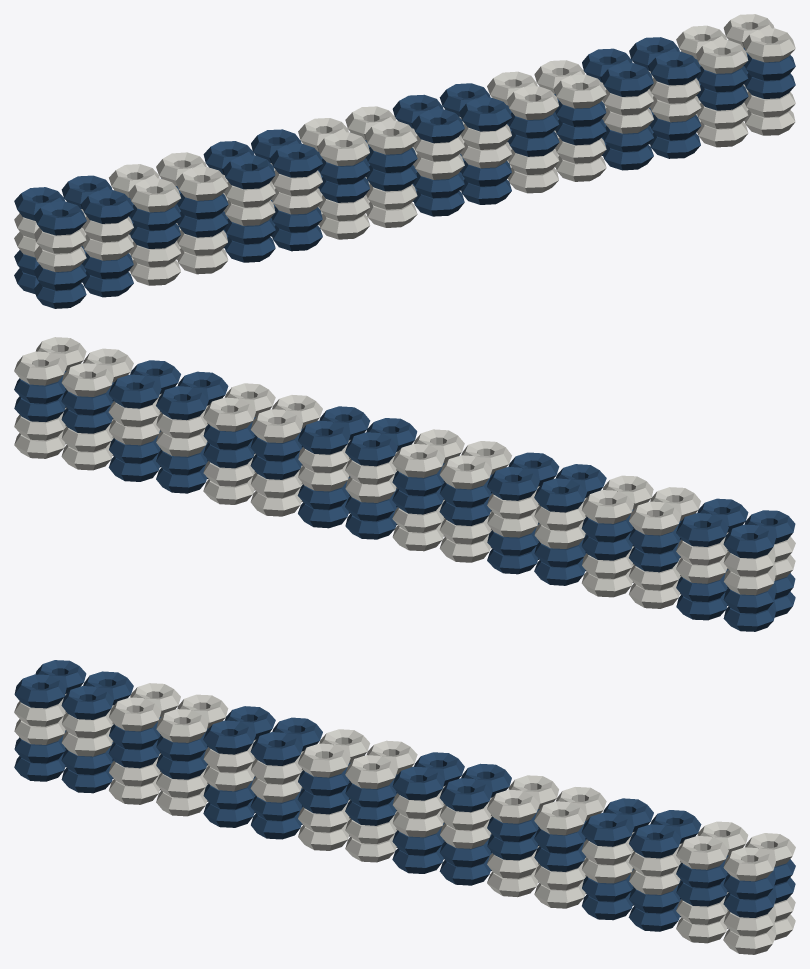
File: run_tire_navy_2l_10m.glb
The picture shows the model from 3 angles, top to bottom: view 1: azimuth 30°, elevation 25°; view 2: azimuth 150°, elevation 25°; view 3: azimuth 330°, elevation 25°; orthographic projection.
Visible parts, largest first — view 1: run_tire_navy_2l_10m; view 2: run_tire_navy_2l_10m; view 3: run_tire_navy_2l_10m.
Boxes of the visible parts, x1,y1,x2,y2 form: run_tire_navy_2l_10m: (14, 14, 795, 308); run_tire_navy_2l_10m: (14, 337, 795, 631); run_tire_navy_2l_10m: (14, 660, 795, 954).
Size of the model in its own units: 9.92 by 1.14 by 1.07.
